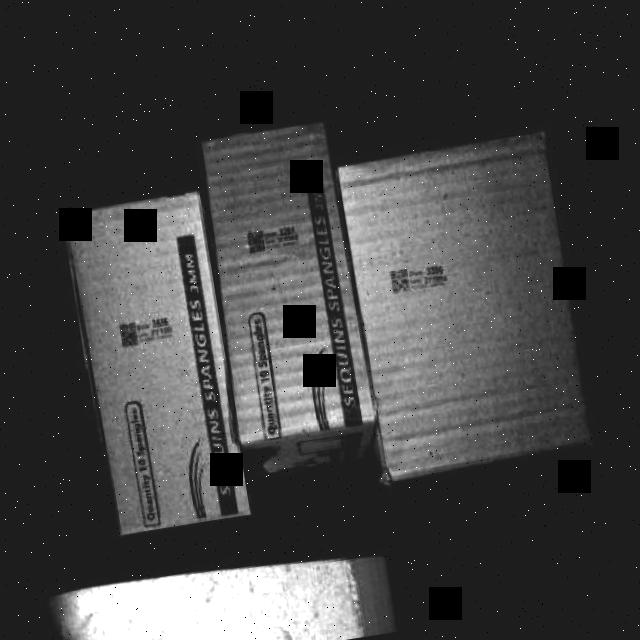box: (337, 139, 589, 476), (62, 194, 254, 535), (204, 124, 376, 446)
